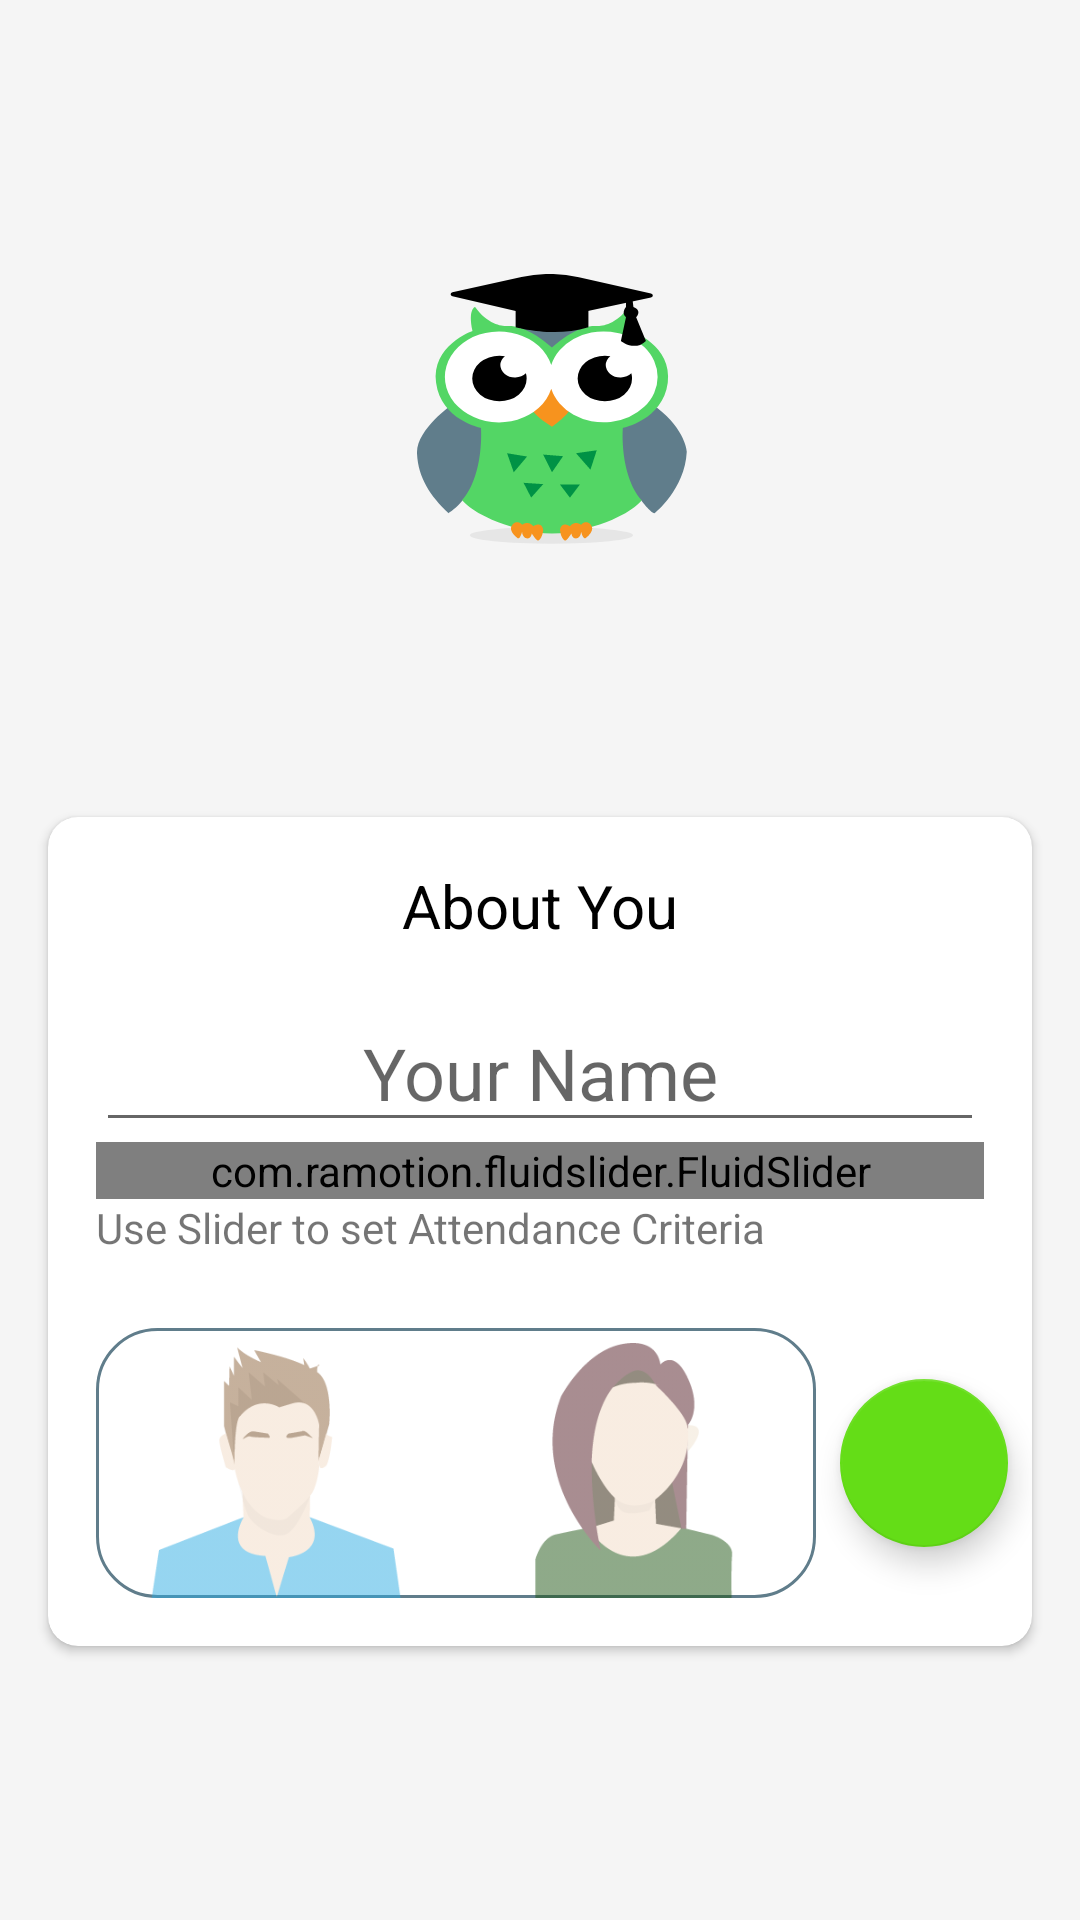

Locate icon controls on the screen. Image size 1080 × 1920, boxes as (x1, y1, x2, y2).
boy: (96, 1328, 456, 1598)
girl: (456, 1328, 816, 1598)
wise owl: (417, 274, 687, 541)
